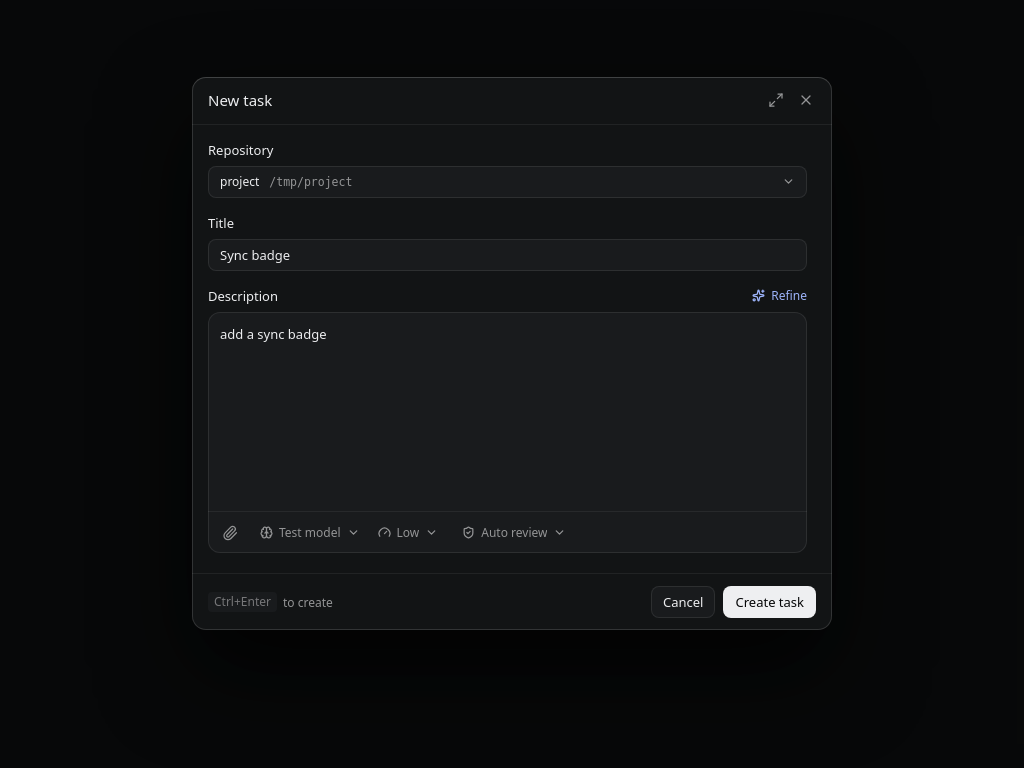
Scenario: mounted NewTaskPanel prompt refinement › keeps an active refinement failure visible and preserves the editable request
Click the button "Refine" at (780, 296), box [752,284,807,308]
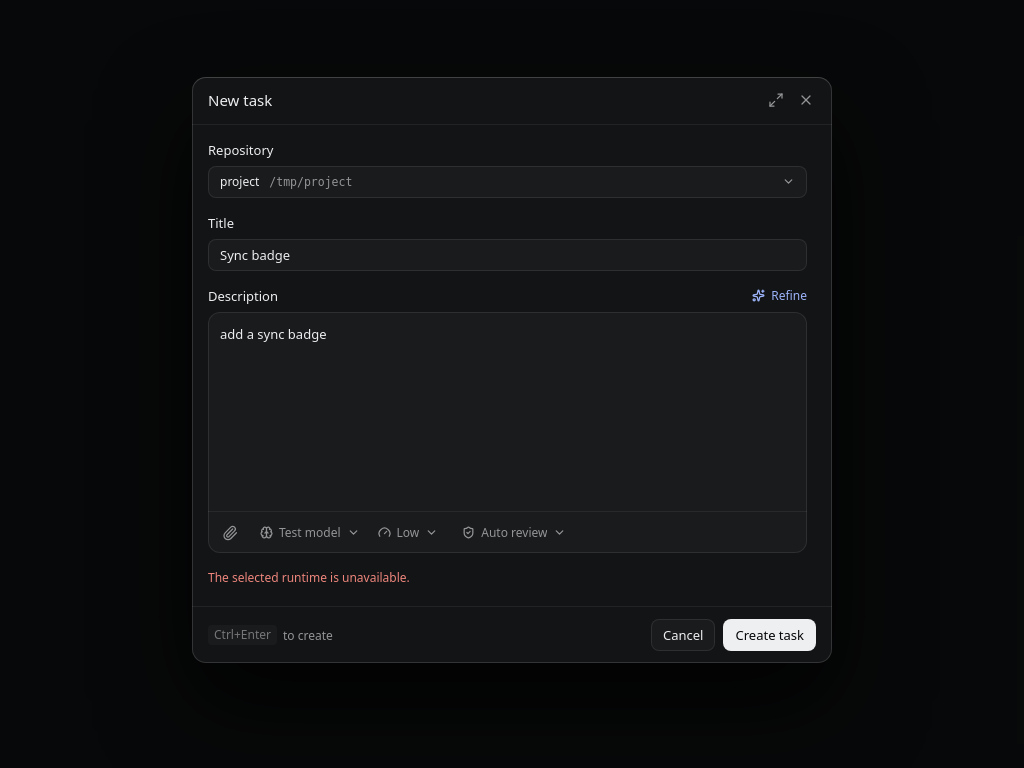
Expected: the text box labelled "Description" holds "add a sync badge", [208,312,807,512]
Now the text "The selected runtime is unavailable." is shown, box [208,570,410,586]
